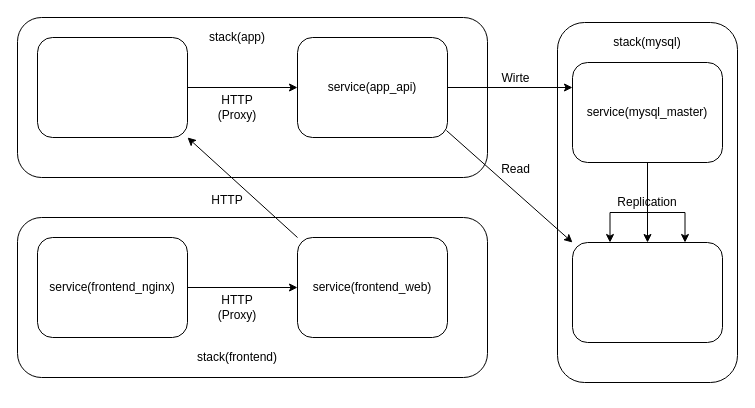
Image size: 755x408. Some labels were removed from this diagram. The shapes that lost their labels are listed below. From the top down, each one's centre as x and y in pixels, then its label:
(x=112, y=87): service(app_nginx)
(x=647, y=292): service(mysql_slave)
